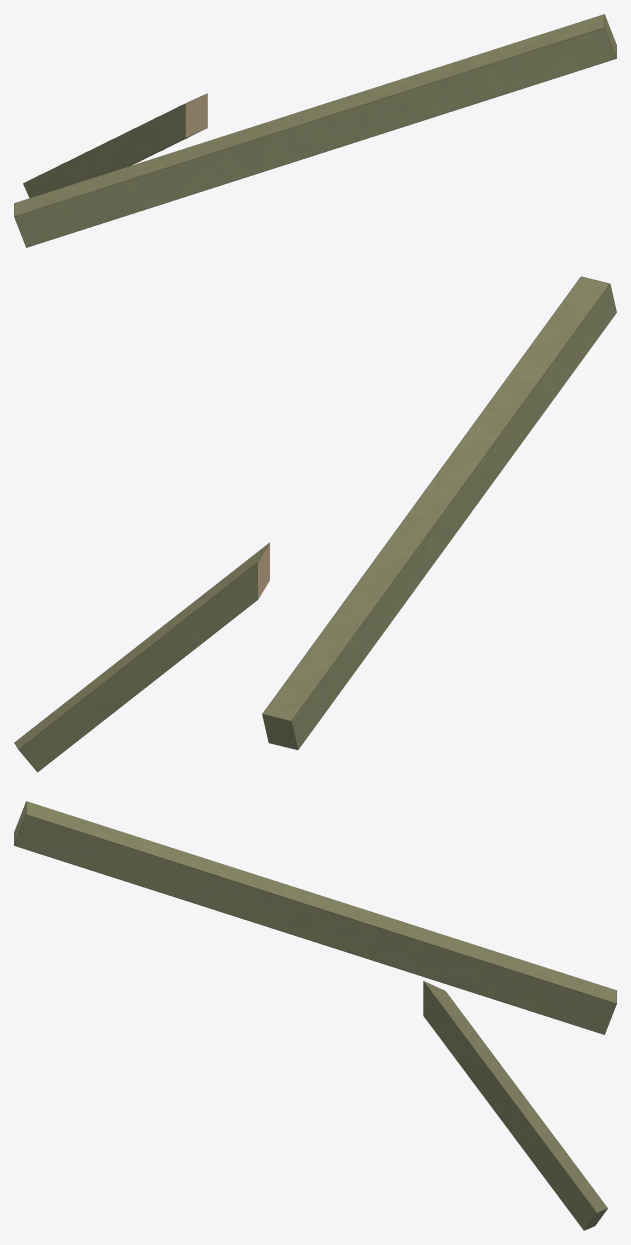
File: jack-rafter-at-hip.glb
The picture shows the model from 3 angles, top to bottom: view 1: azimuth 90°, elevation 25°; view 2: azimuth 150°, elevation 25°; view 3: azimuth 270°, elevation 25°; orthographic projection. The views are drawn at different scales.
Visible parts, largest first — view 1: part-a, part-b; view 2: part-a, part-b; view 3: part-a, part-b.
Part boxes in pixels (x1,y1,x2,y2): part-a: [14, 14, 616, 247]; part-b: [23, 93, 207, 197]; part-a: [262, 276, 616, 749]; part-b: [14, 542, 269, 772]; part-a: [14, 801, 616, 1034]; part-b: [423, 981, 607, 1230].
Bounding box in the file's own units: 0.8862 × 0.9673 × 1.73.
